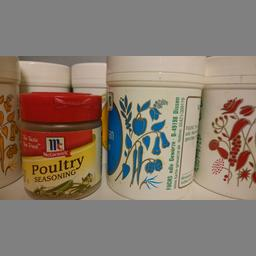spices: (105, 56, 206, 199), (17, 90, 103, 199), (192, 56, 255, 197)
